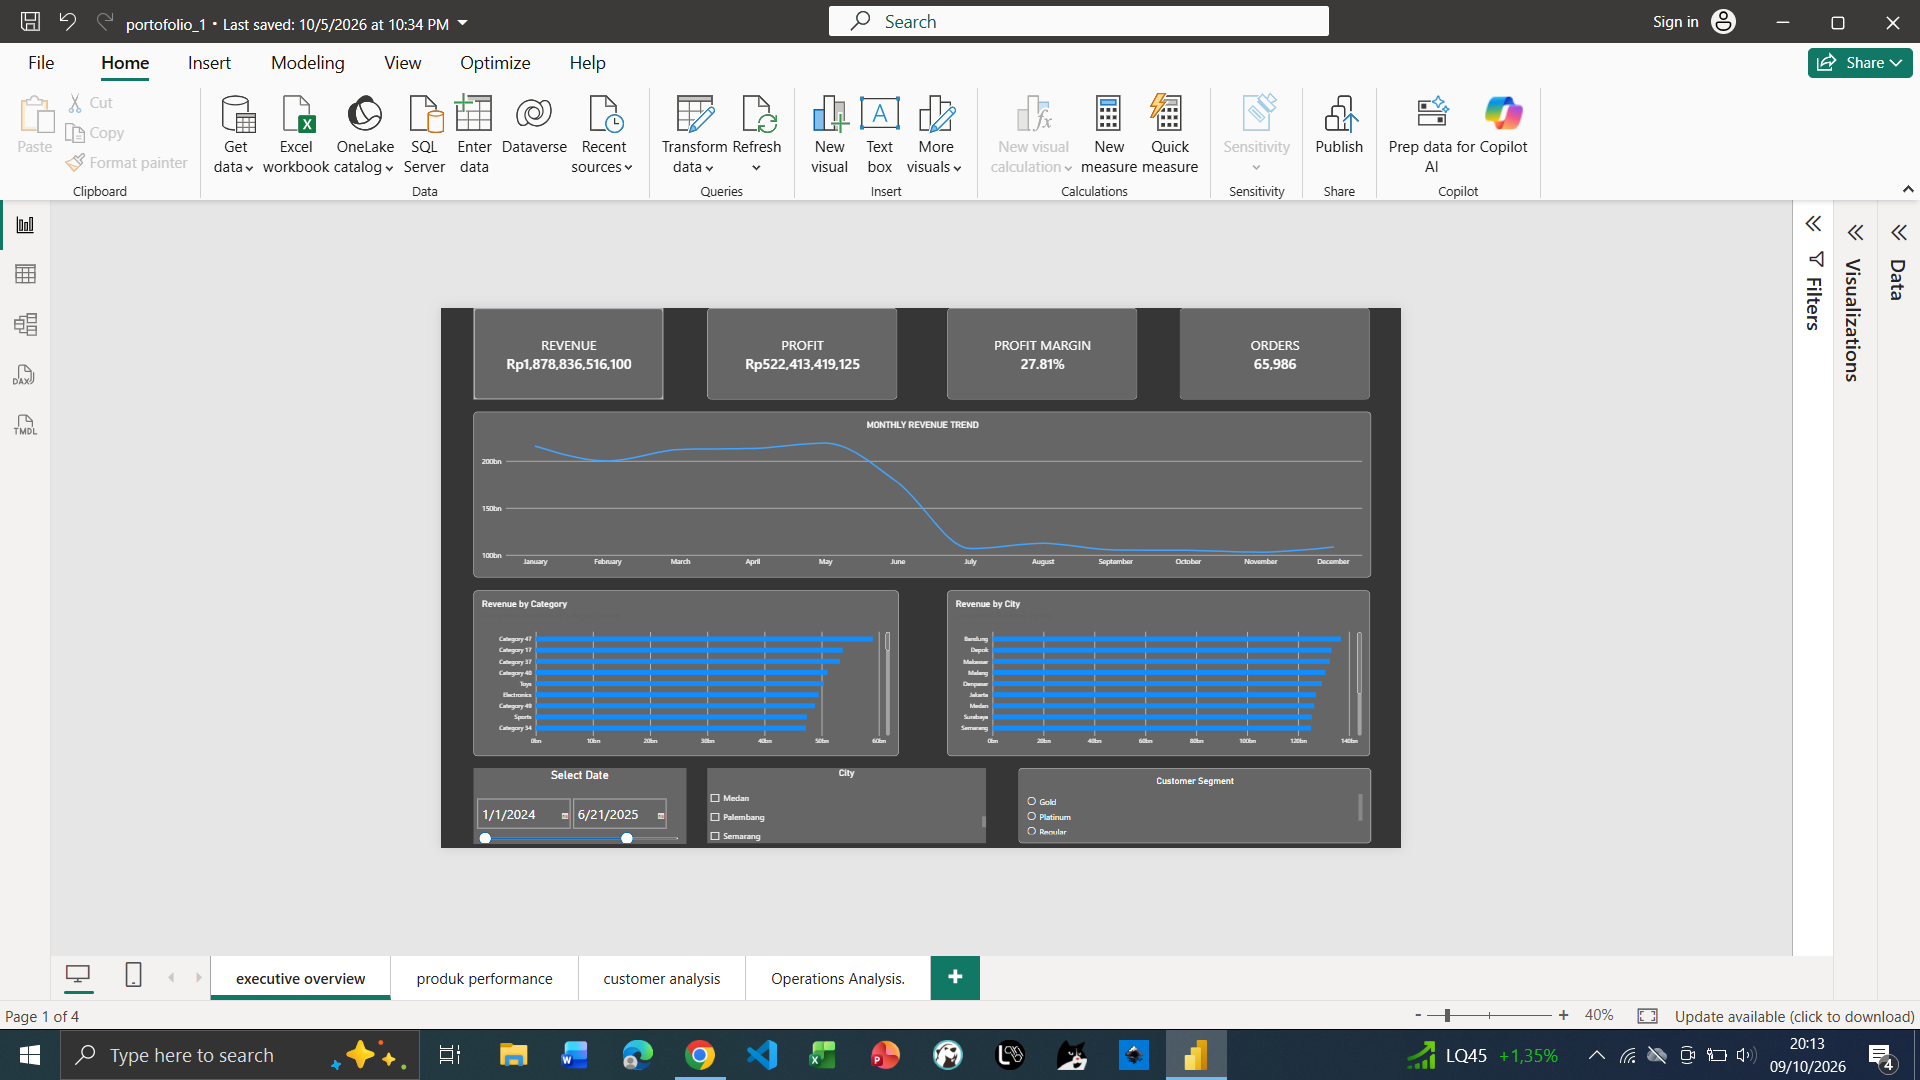

The page's visual inventory and layout, read from the dashboard file:
{"tool":"powerbi","page":{"name":"executive overview","canvas":[1920,1080],"ordinal":0},"visuals":[{"type":"cardVisual","fields":{"Data":["order_items.Completed Revenue"]},"box":[63.8,0,380.8,183.2],"z":0},{"type":"cardVisual","fields":{"Data":["order_items.Completed Profit"]},"box":[533.1,0,380.8,183.2],"z":1000},{"type":"cardVisual","fields":{"Data":["order_items.Completed Profit Margin"]},"box":[1012.5,0,380.8,183.2],"z":2000},{"type":"cardVisual","fields":{"Data":["order_items.Completed Orders"]},"box":[1477.9,0,380.8,183.2],"z":3000},{"type":"lineChart","title":"MONTHLY REVENUE TREND","fields":{"Category":["orders.order_date.Variation.Date Hierarchy.Month","orders.order_date.Variation.Date Hierarchy.Day"],"Y":["order_items.Completed Revenue"]},"box":[63.8,207.9,1794.9,331.4],"z":4000},{"type":"barChart","title":"Revenue by Category","fields":{"Category":["categories.category_name"],"Y":["order_items.Completed Revenue"]},"box":[63.8,564,850.1,331.4],"z":5000},{"type":"barChart","title":"Revenue by City","fields":{"Category":["customers.city"],"Y":["order_items.Completed Revenue"]},"box":[1012.7,564,846,331.4],"z":6000},{"type":"slicer","title":"City","fields":{"Values":["customers.city"]},"box":[532.5,920,557.5,150],"z":7000},{"type":"slicer","title":"Select Date","fields":{"Values":["orders.order_date"]},"box":[65,920,425,150],"z":8000},{"type":"listSlicer","title":"Customer Segment","fields":{"Values":["customers.customer_segment"]},"box":[1155,920,705,150],"z":9000}]}

Visuals, with their boxes on the page's 1920x1080 design canvas (x1, y1, x2, y2). These are canvas units, not pixel positions in the 1920x1080 screenshot, which may show the page scaled, cropped or inside an application window:
cardVisual - order_items.Completed Revenue: x1=64 y1=0 x2=445 y2=183
cardVisual - order_items.Completed Profit: x1=533 y1=0 x2=914 y2=183
cardVisual - order_items.Completed Profit Margin: x1=1012 y1=0 x2=1393 y2=183
cardVisual - order_items.Completed Orders: x1=1478 y1=0 x2=1859 y2=183
"MONTHLY REVENUE TREND" lineChart: x1=64 y1=208 x2=1859 y2=539
"Revenue by Category" barChart: x1=64 y1=564 x2=914 y2=895
"Revenue by City" barChart: x1=1013 y1=564 x2=1859 y2=895
"City" slicer: x1=532 y1=920 x2=1090 y2=1070
"Select Date" slicer: x1=65 y1=920 x2=490 y2=1070
"Customer Segment" listSlicer: x1=1155 y1=920 x2=1860 y2=1070
